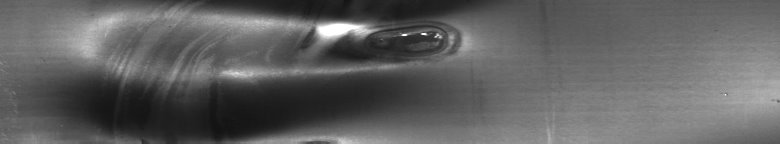ke: (5, 4, 551, 136)
